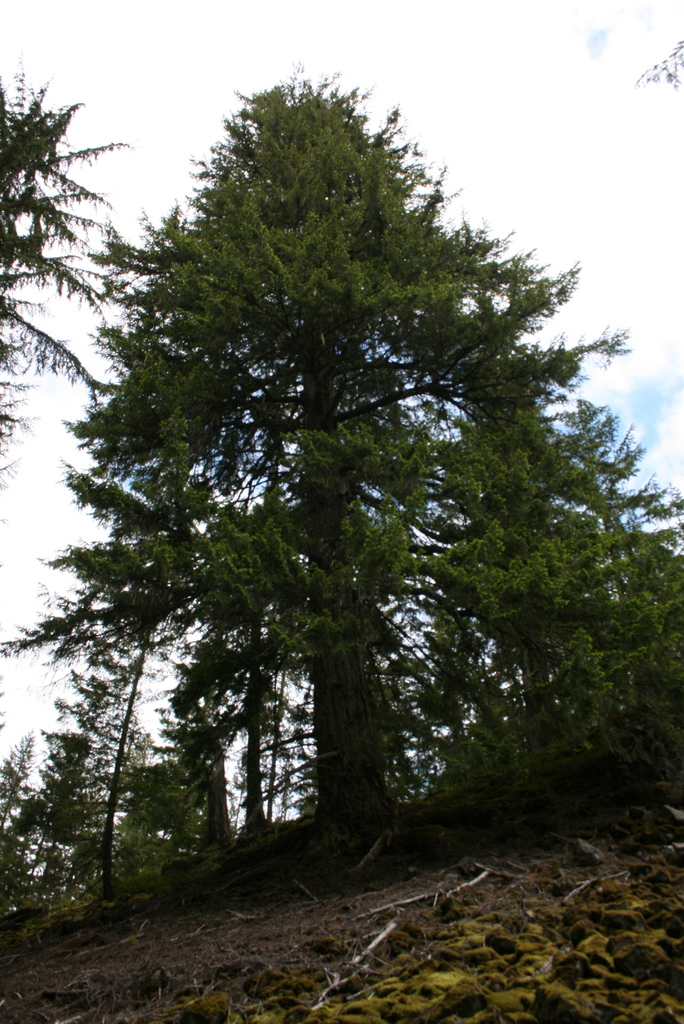Tree: (16, 56, 616, 886), (0, 51, 151, 490), (617, 476, 683, 817), (0, 730, 35, 935)
